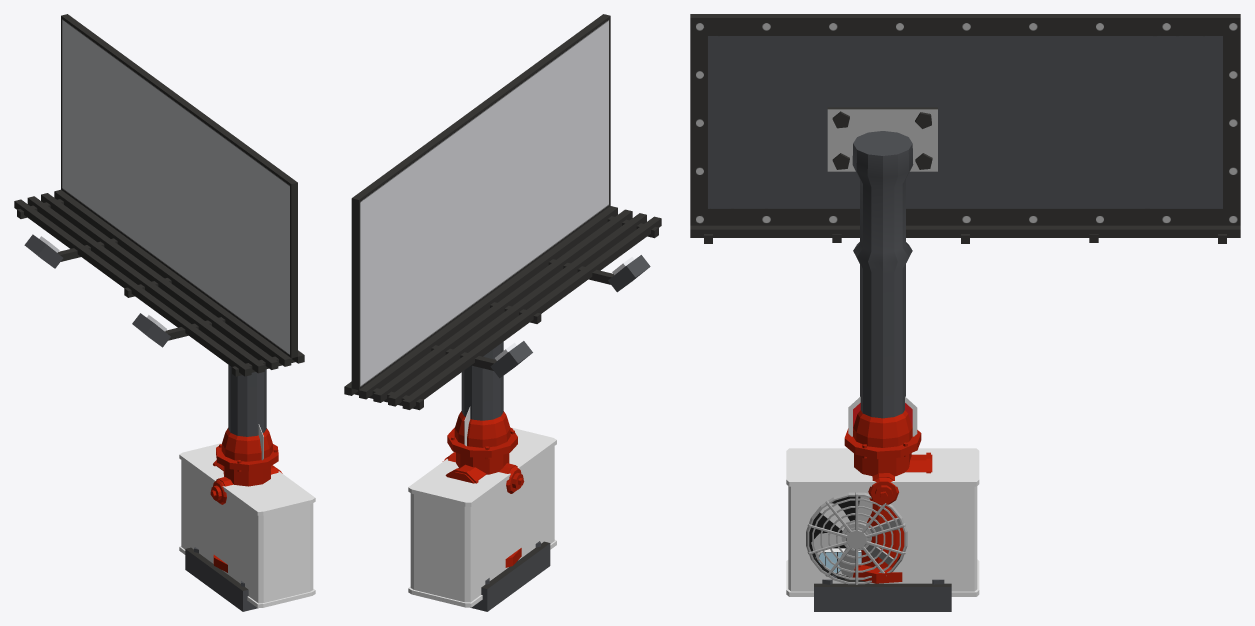
Rendered from props.glb.
The picture shows the model from 3 angles, left to right: view 1: azimuth 30°, elevation 25°; view 2: azimuth 150°, elevation 25°; view 3: azimuth 270°, elevation 25°; orthographic projection. The views are drawn at different scales.
Visible parts, largest first — view 1: b, Air_Conditioner, FireHydrant; view 2: b, Air_Conditioner, FireHydrant; view 3: b, Air_Conditioner, FireHydrant.
Part boxes in pixels (x1,y1,x2,y2): b: [14, 14, 304, 611]; Air_Conditioner: [179, 443, 315, 607]; FireHydrant: [210, 428, 282, 572]; b: [344, 14, 661, 611]; Air_Conditioner: [408, 427, 556, 607]; FireHydrant: [442, 411, 524, 567]; b: [690, 14, 1240, 611]; Air_Conditioner: [786, 448, 979, 596]; FireHydrant: [844, 410, 932, 583].
Bounding box in the file's own units: 245 × 673 × 600.
168 materials, 22 textured.
